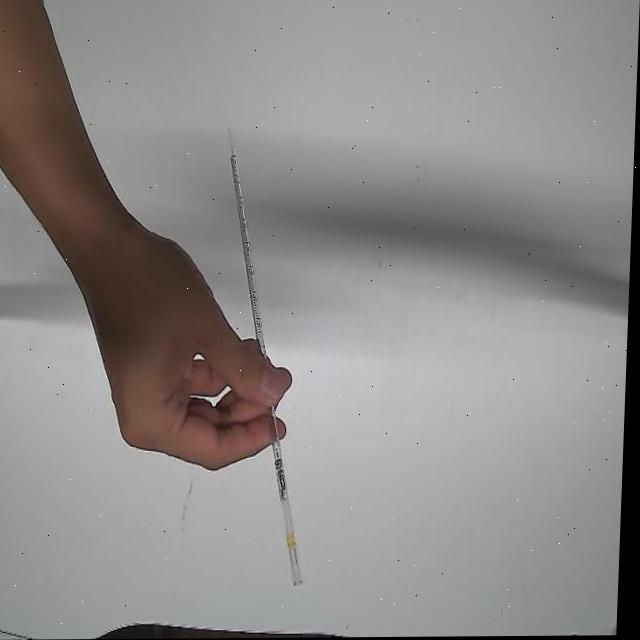Serelogical Pipet 1 mL: (212, 123, 323, 589)
